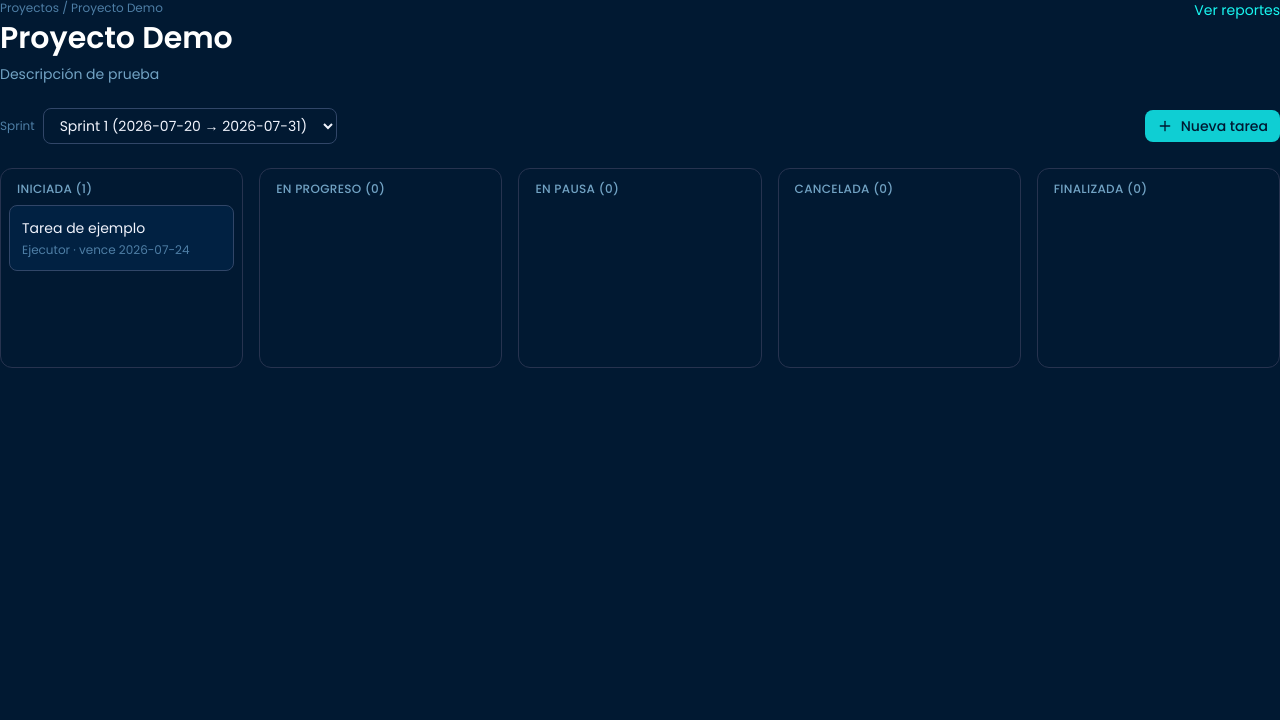
Test: ProjectDetailPage — modal de tarea › un ejecutor editando una tarea auto-asignada NO ve el selector de reasignar (solo admin puede reasignar)
This screenshot has width=1280, height=720.
Click the element with test id "task-card-t-1".
click(122, 238)  # box top-left (9, 205), bottom-right (234, 271)
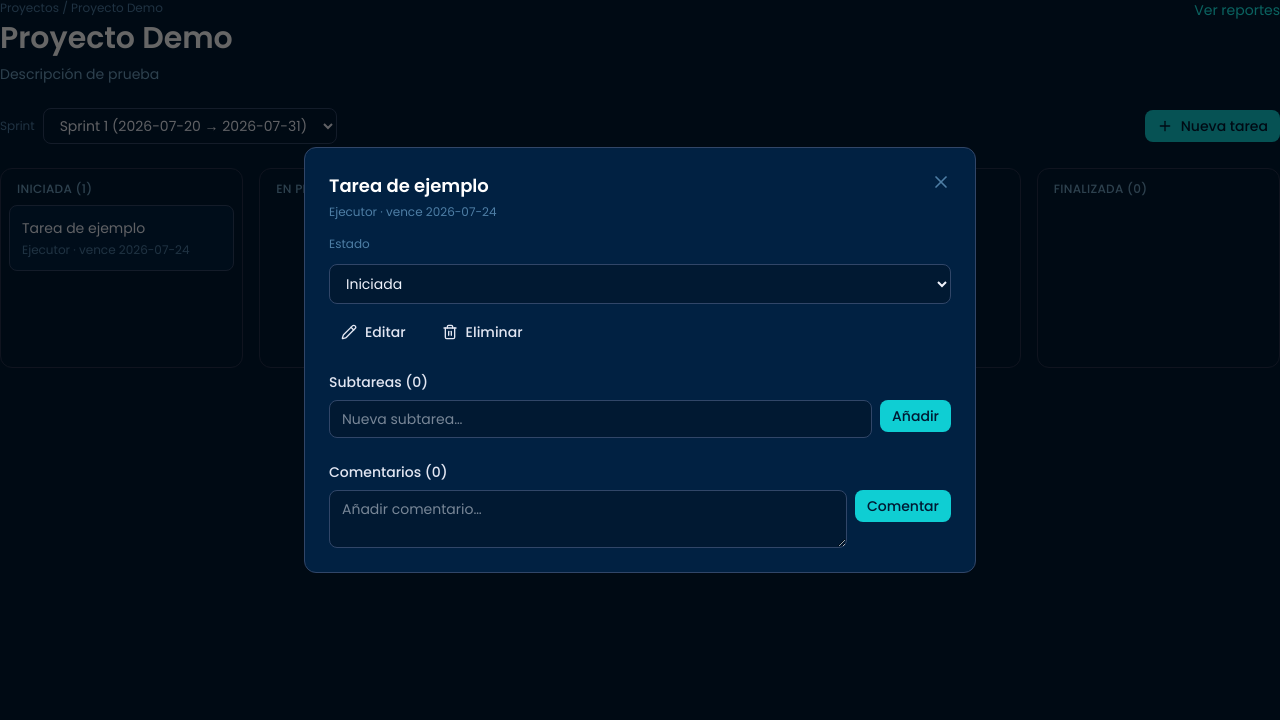
Click the button "Editar".
click(373, 332)  # box top-left (329, 316), bottom-right (418, 348)
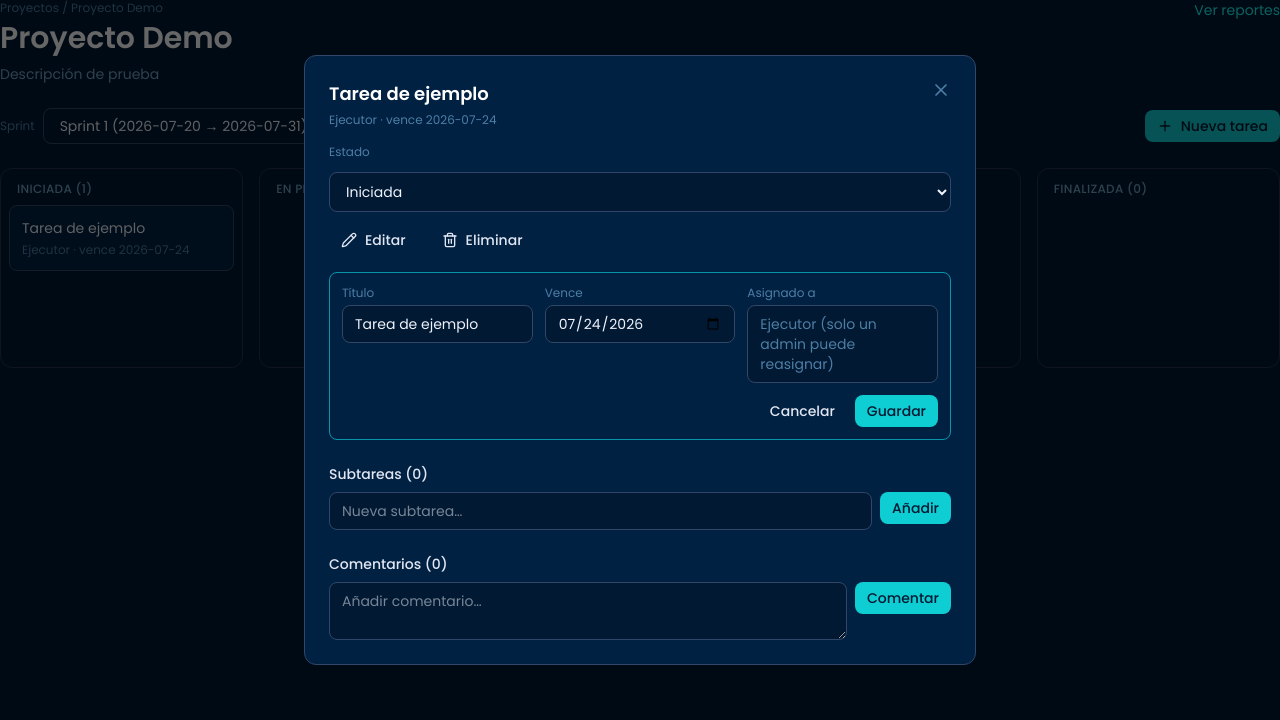
Check: the text "Ejecutor (solo un admin puede reasignar)" is shown, box top-left (747, 305), bottom-right (938, 383)
